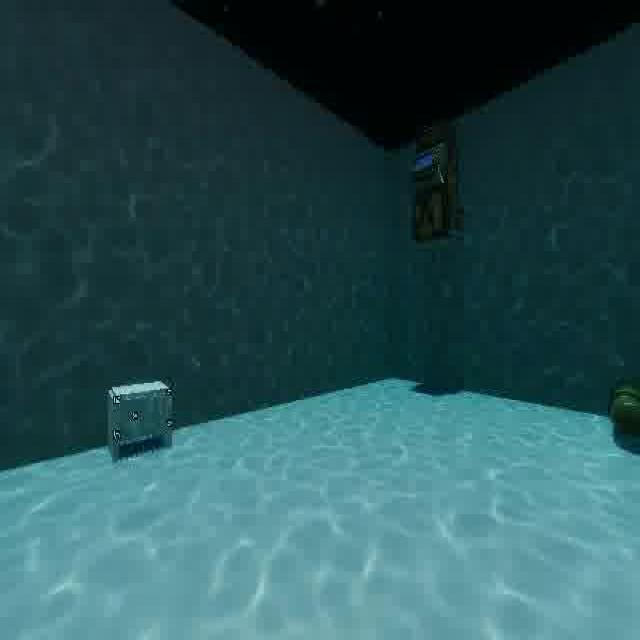Control Panel: (404, 119, 469, 256)
Docking Station: (102, 370, 181, 470)
Pipe: (607, 371, 640, 458)
